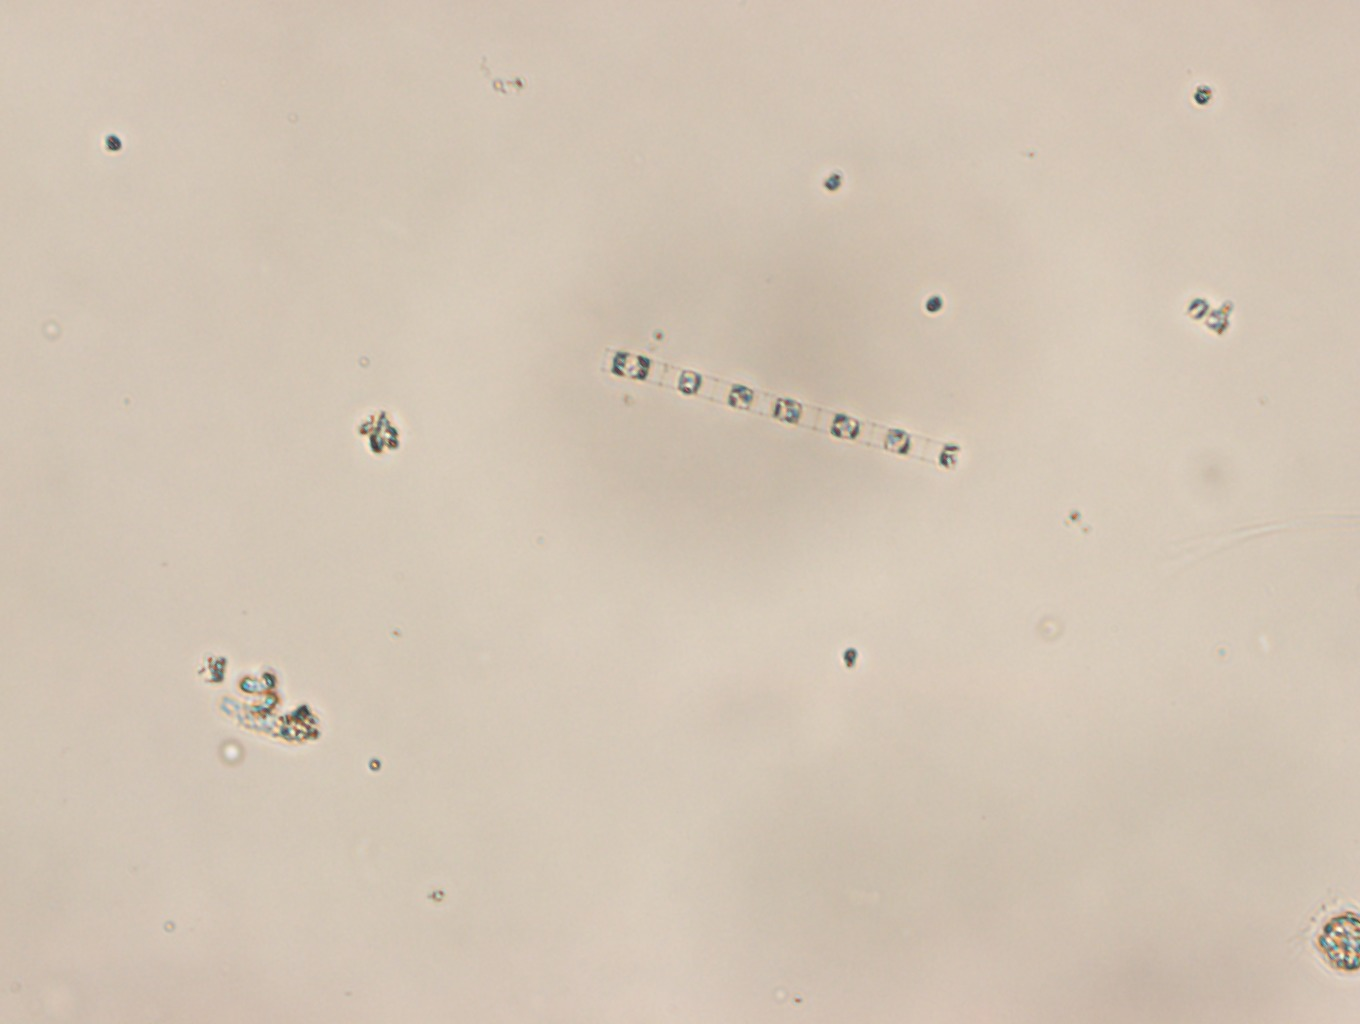skeletonema: (595, 345, 963, 473)
